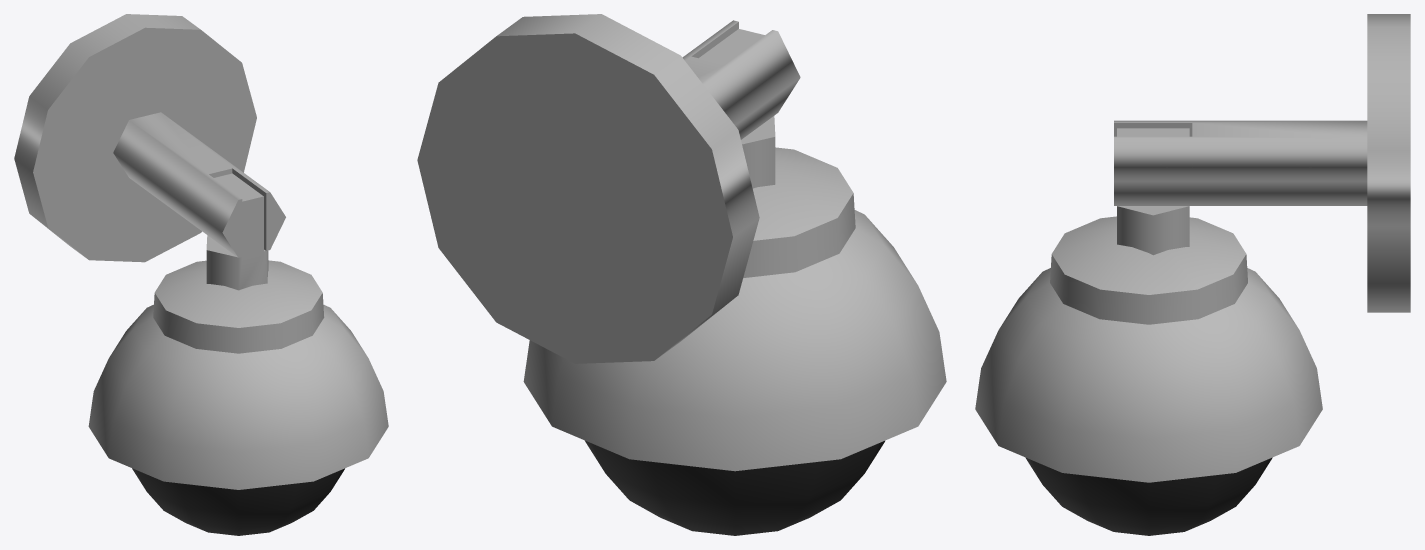
3 views of the same model, side by side, from view 1: azimuth 30°, elevation 25°; view 2: azimuth 150°, elevation 25°; view 3: azimuth 270°, elevation 25° (orthographic). The views are drawn at different scales.
Visible parts, largest first — view 1: Lo-Body_01; view 2: Lo-Body_01; view 3: Lo-Body_01.
Part boxes in pixels (x1,y1,x2,y2): Lo-Body_01: [14, 14, 388, 535]; Lo-Body_01: [417, 14, 946, 535]; Lo-Body_01: [975, 14, 1410, 535].
Bounding box in the file's own units: 0.1231 × 0.1937 × 0.1541.
Materials: 1 (1 with a texture image).
